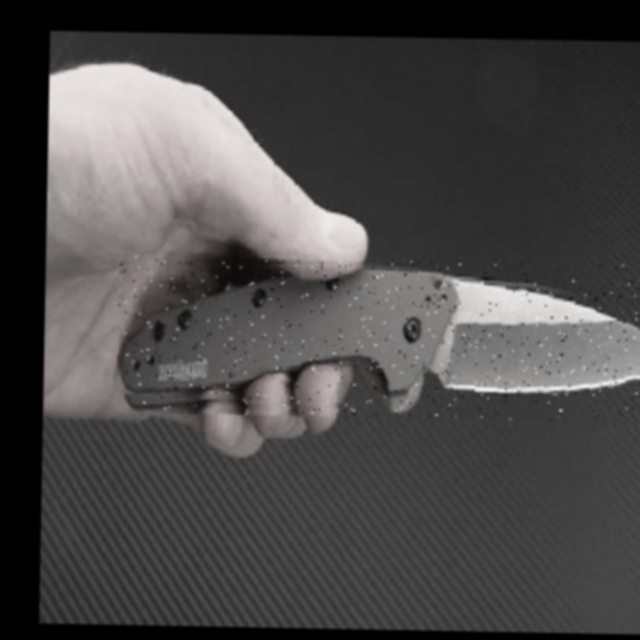Sharp-Object: (116, 256, 640, 423)
